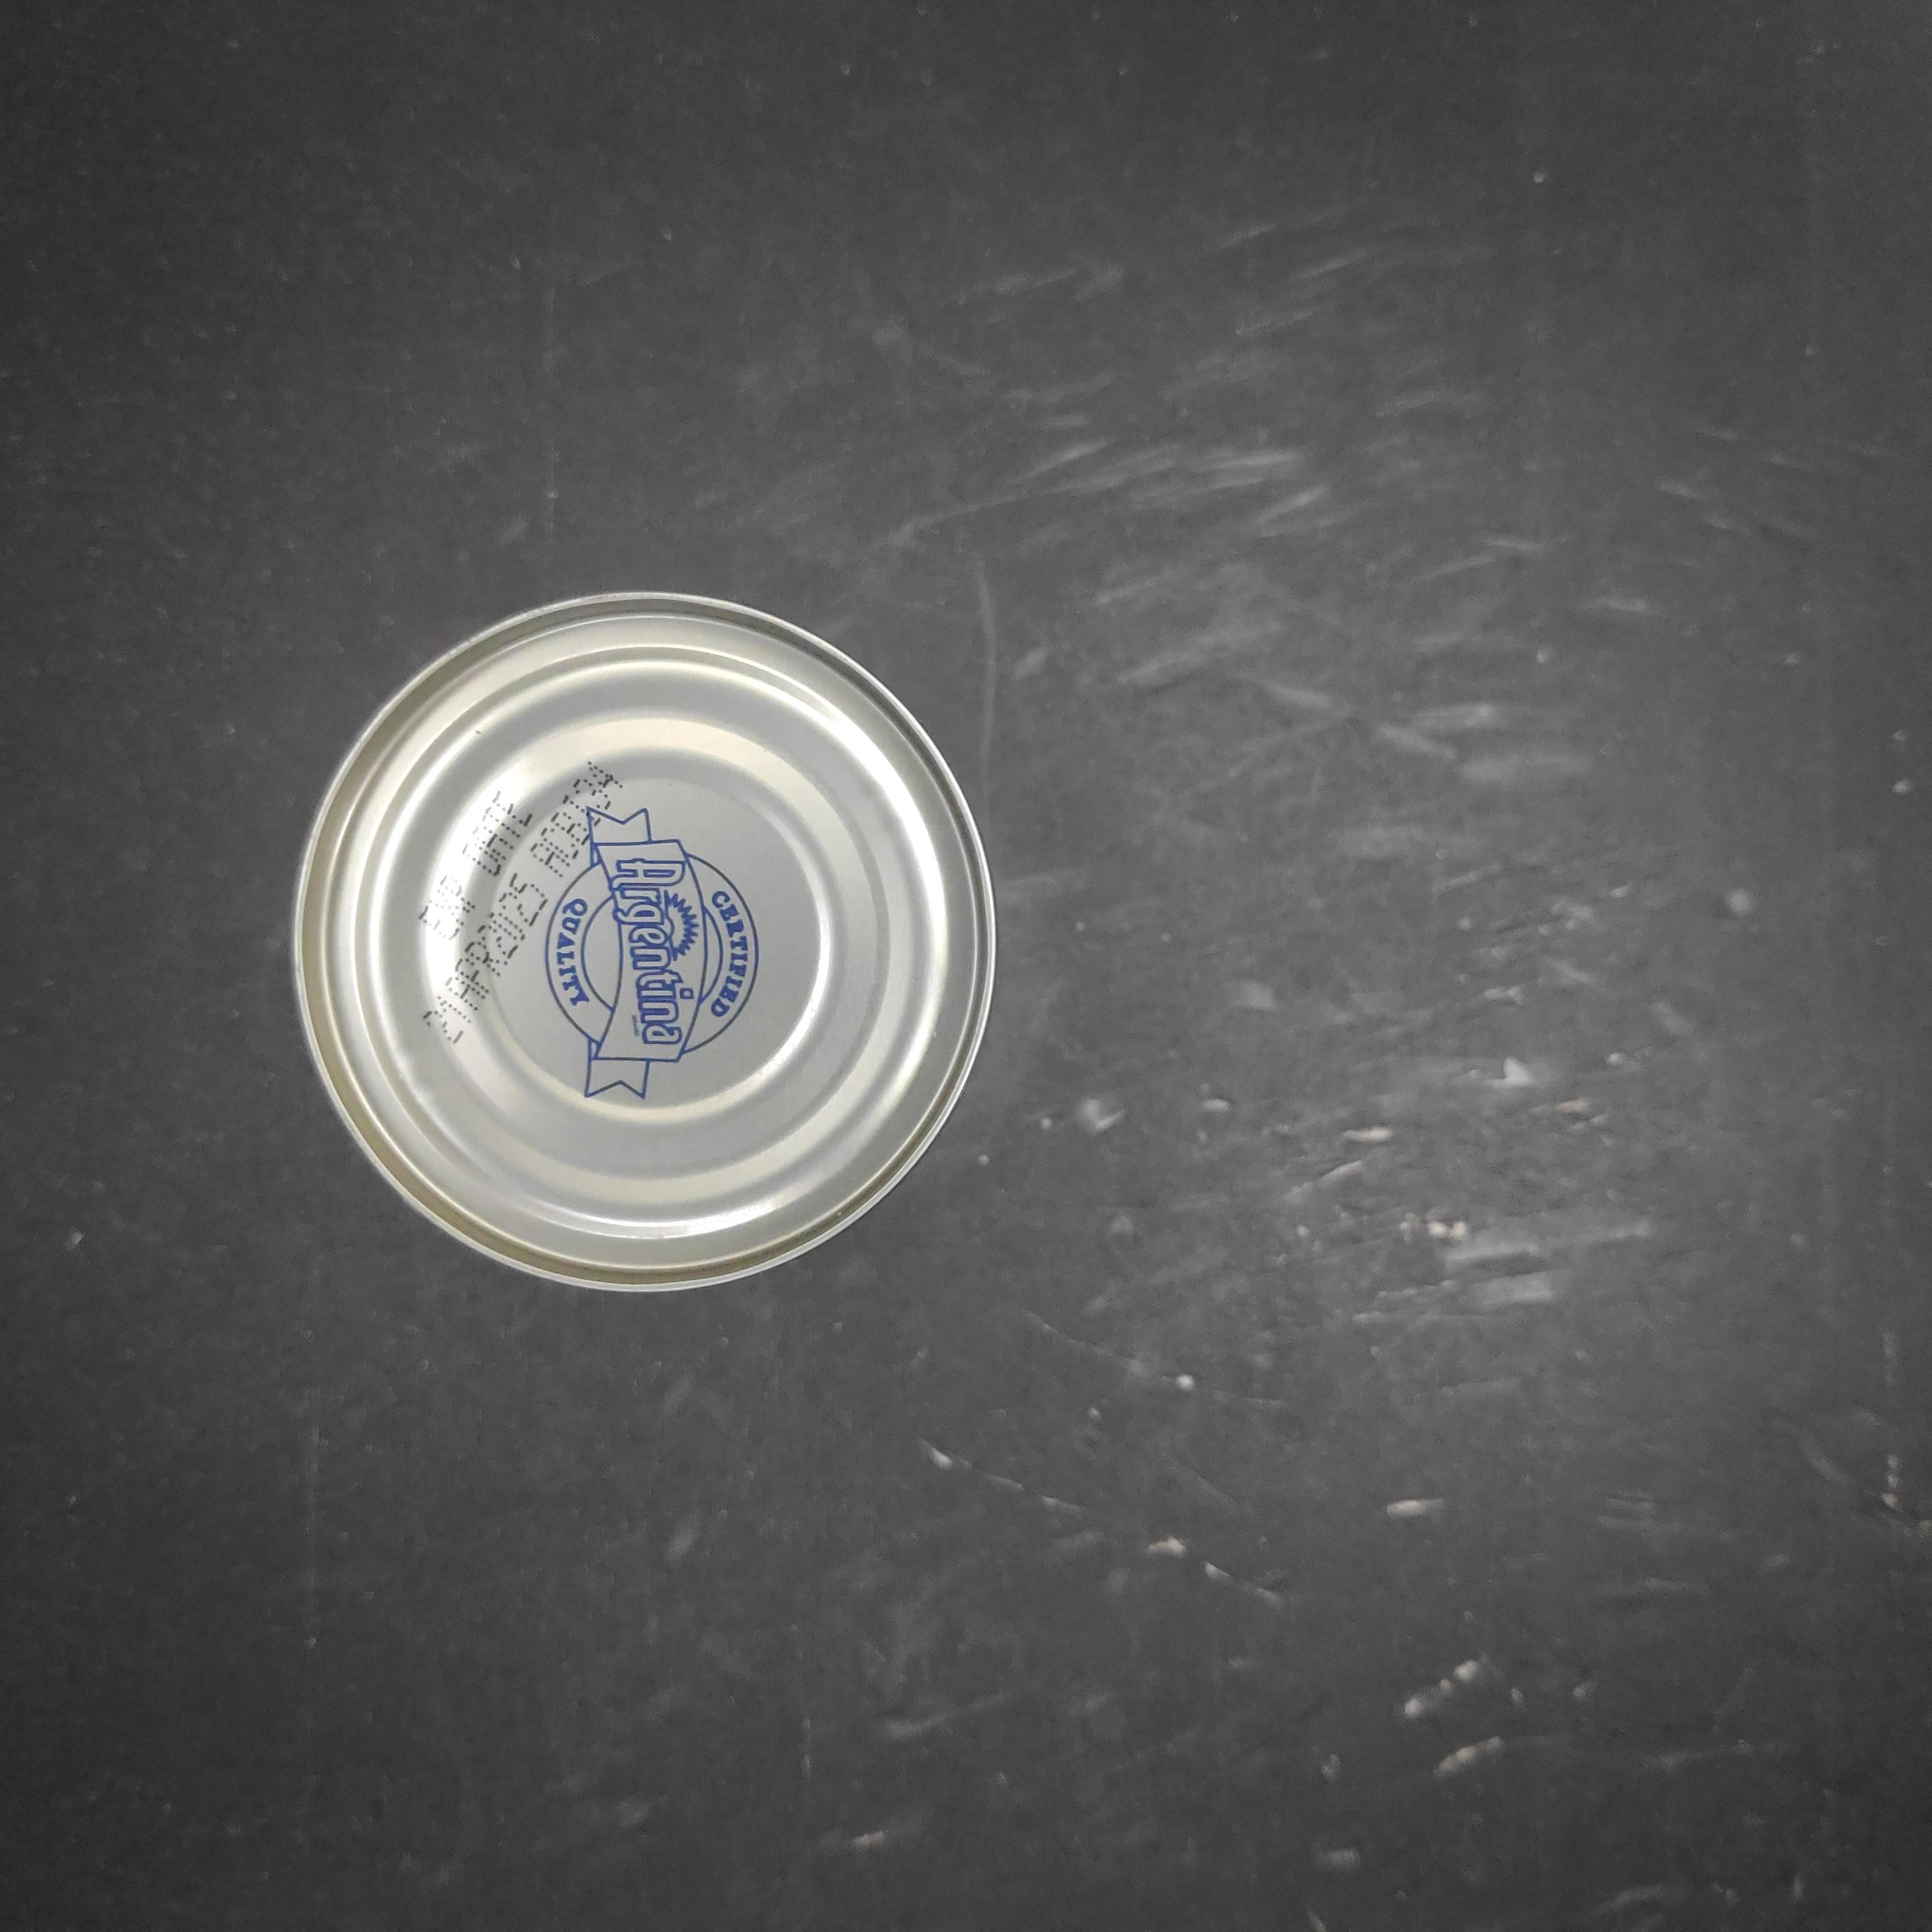No defect: (289, 589, 999, 1294)
